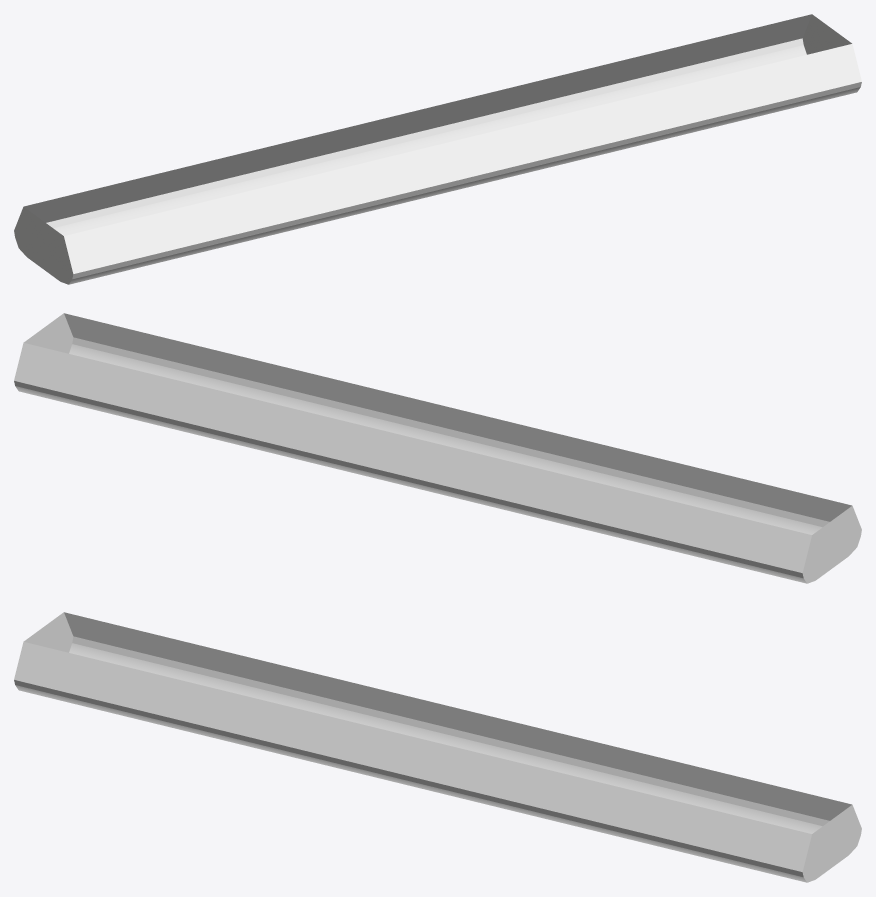
Rendered from Freezer Light ON.fbx.
3 views of the same model, one above another, from view 1: azimuth 30°, elevation 25°; view 2: azimuth 150°, elevation 25°; view 3: azimuth 330°, elevation 25° (orthographic).
Visible parts, largest first — view 1: Freezer Light ON; view 2: Freezer Light ON; view 3: Freezer Light ON.
Boxes of the visible parts, <box> form: Freezer Light ON: <box>14,14,861,284</box>; Freezer Light ON: <box>14,313,861,583</box>; Freezer Light ON: <box>14,612,861,882</box>.
Size of the model in its own units: 93.15 by 5.44 by 12.15.
